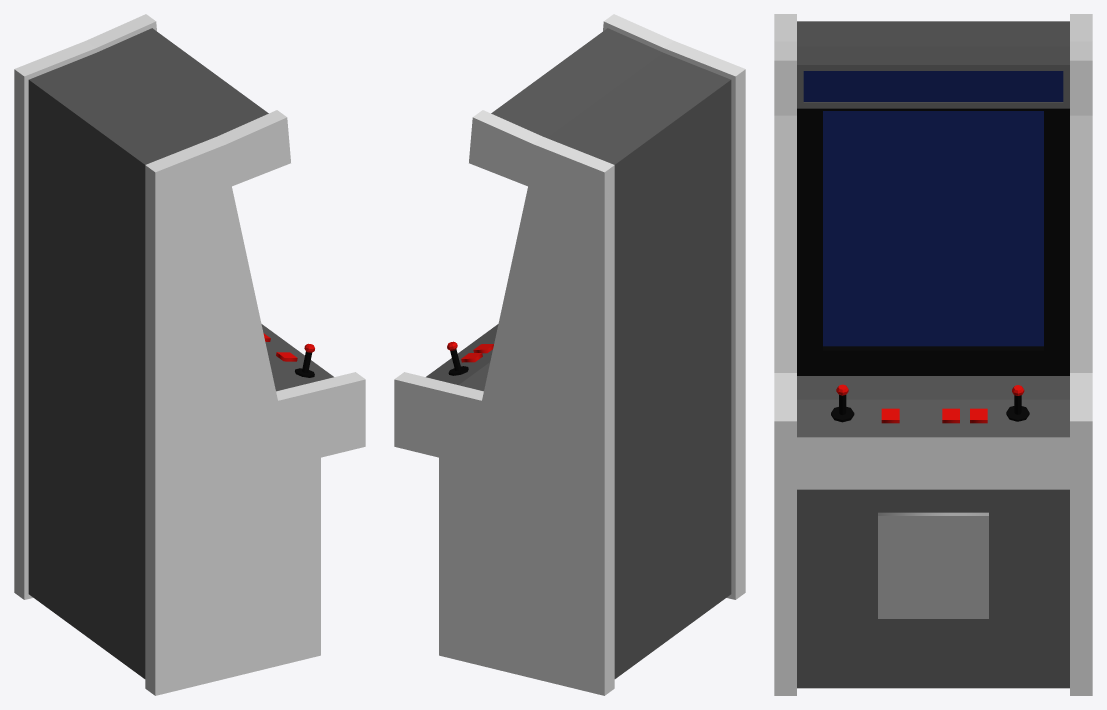
The model's file is Arcade.fbx.
3 views of the same model, side by side, from view 1: azimuth 30°, elevation 25°; view 2: azimuth 150°, elevation 25°; view 3: azimuth 270°, elevation 25° (orthographic). The views are drawn at different scales.
Visible parts, largest first — view 1: Arcade; view 2: Arcade; view 3: Arcade.
Part boxes in pixels (box(x1,y1,x2,y2)): Arcade: box(14, 14, 365, 695); Arcade: box(394, 14, 745, 695); Arcade: box(774, 14, 1092, 695).
Size of the model in its own units: 85.41 by 212 by 99.23.
